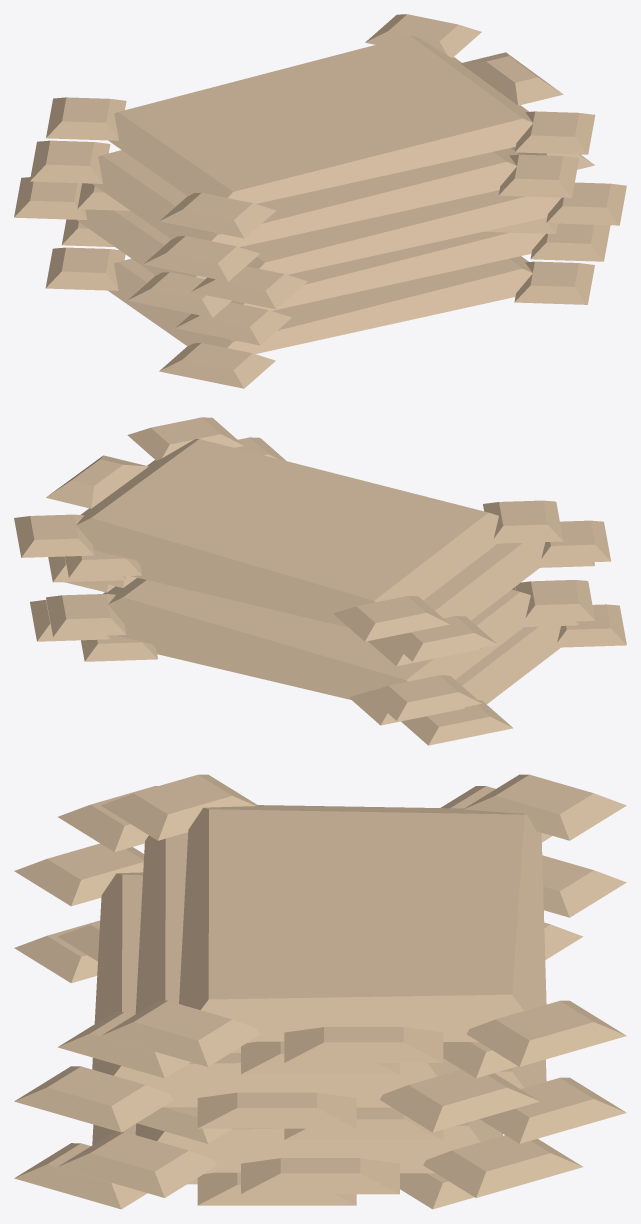
File: item_014_fur_cloak_l.glb
3 views of the same model, one above another, from view 1: azimuth 30°, elevation 25°; view 2: azimuth 150°, elevation 25°; view 3: azimuth 270°, elevation 25° (orthographic). The views are drawn at different scales.
Parts seen in each view (by area): view 1: item_014_fur_cloak_l; view 2: item_014_fur_cloak_l; view 3: item_014_fur_cloak_l.
Boxes of the visible parts, x1,y1,x2,y2 form: item_014_fur_cloak_l: [14, 14, 626, 388]; item_014_fur_cloak_l: [14, 417, 626, 745]; item_014_fur_cloak_l: [14, 774, 626, 1209].
Bounding box in the file's own units: 1.03 × 0.291 × 0.8476.
